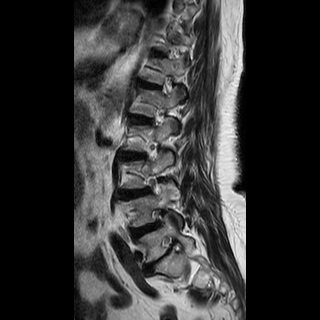LFS2: (147, 202, 173, 230)
